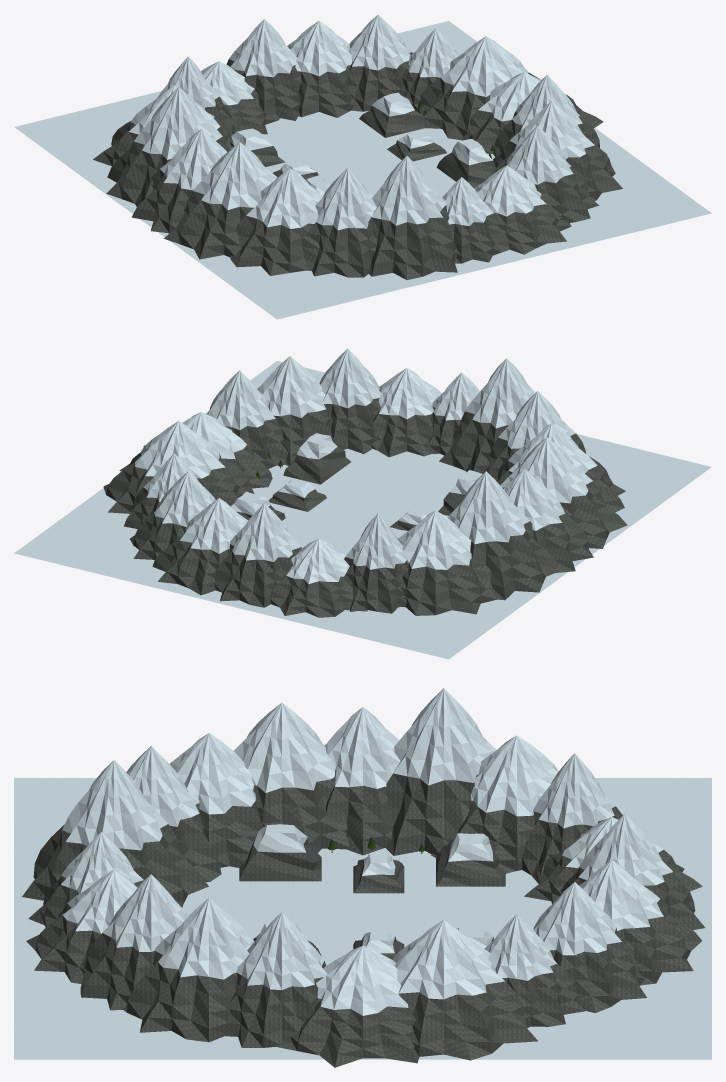
File: map_4_v1.glb
3 renders of one model, top to bottom at view 1: azimuth 30°, elevation 25°; view 2: azimuth 150°, elevation 25°; view 3: azimuth 270°, elevation 25°, orthographic. The views are drawn at different scales.
Parts seen in each view (by area): view 1: granular_snow, weathered_granite; view 2: granular_snow, weathered_granite; view 3: granular_snow, weathered_granite.
Boxes of the visible parts, box(x1,y1,x2,y2) form: granular_snow: box(14, 14, 711, 319); weathered_granite: box(93, 52, 622, 279); granular_snow: box(14, 348, 711, 659); weathered_granite: box(103, 398, 627, 617); granular_snow: box(14, 688, 711, 1059); weathered_granite: box(22, 773, 705, 1067).
Size of the model in its own units: 437 by 91.28 by 440.
Materials: 4 (4 with a texture image).
